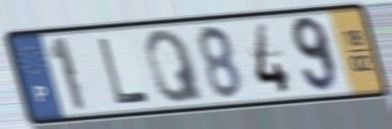1: (48, 34, 90, 115)
4: (254, 21, 293, 96)
8: (197, 23, 244, 102)
9: (287, 13, 341, 96)
L: (95, 35, 153, 105)
Q: (142, 27, 207, 106)
